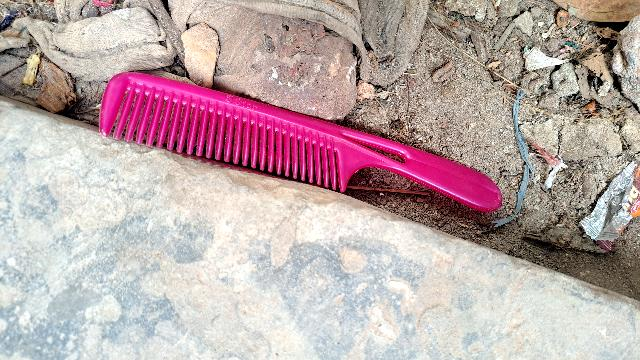hardplastic: (92, 61, 523, 241)
